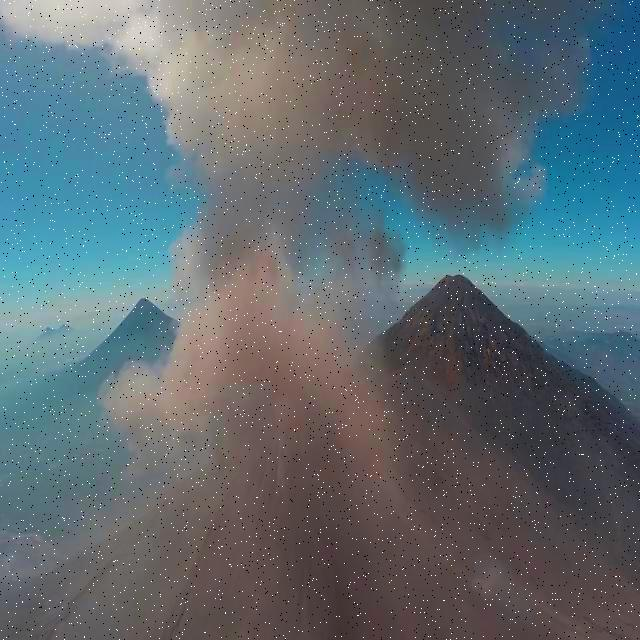Plume: (1, 1, 618, 294), (73, 231, 394, 545)
